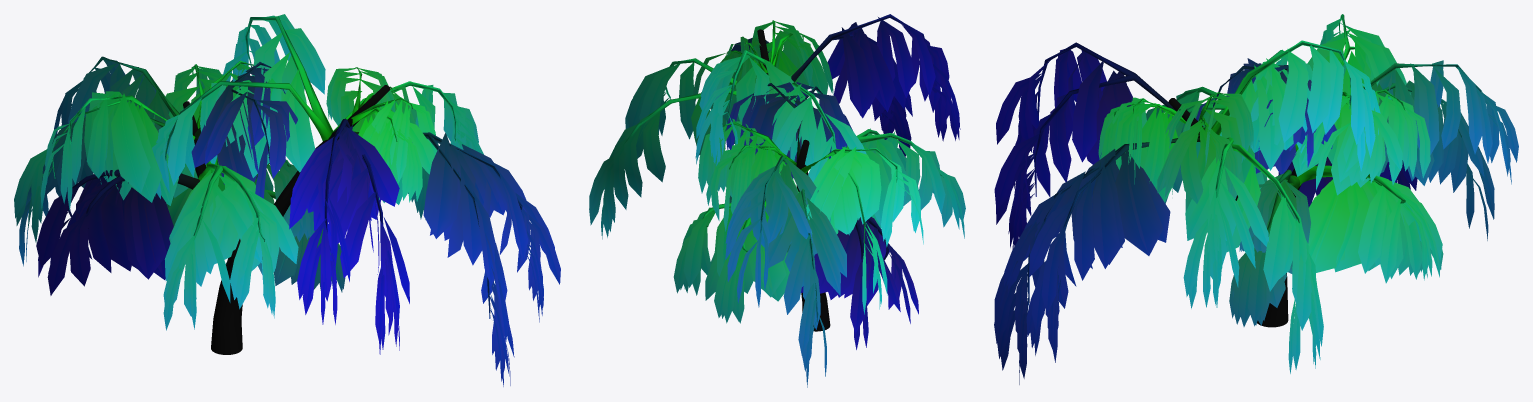
Rendered from test_tree2.fbx.
The picture shows the model from 3 angles, left to right: view 1: azimuth 30°, elevation 25°; view 2: azimuth 150°, elevation 25°; view 3: azimuth 270°, elevation 25°; orthographic projection. The views are drawn at different scales.
Parts seen in each view (by area): view 1: willow branch_1, mossybark05_0; view 2: willow branch_1, mossybark05_0; view 3: willow branch_1, mossybark05_0.
Part boxes in pixels (box(x1,y1,x2,y2)): willow branch_1: box(14, 14, 560, 386); mossybark05_0: box(52, 16, 522, 354); willow branch_1: box(589, 17, 965, 387); mossybark05_0: box(623, 14, 943, 331); willow branch_1: box(994, 18, 1518, 384); mossybark05_0: box(1027, 14, 1481, 327).
Size of the model in its own units: 1052 by 793 by 1208.
